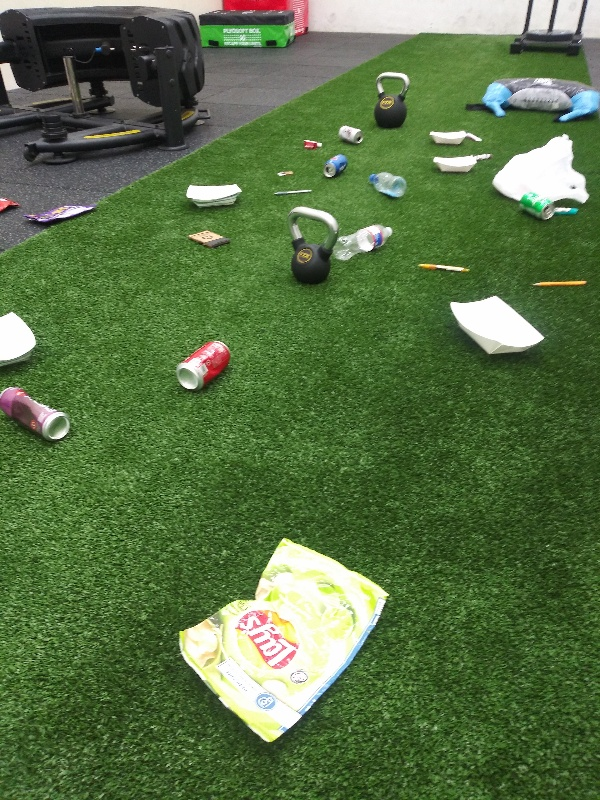bag: (172, 535, 397, 755), (22, 201, 98, 228), (1, 192, 20, 219)
bottle: (329, 222, 396, 268), (365, 166, 410, 198)
can: (1, 381, 73, 448), (172, 337, 237, 393), (517, 191, 554, 224), (334, 121, 367, 144), (321, 152, 348, 180)
plate: (443, 290, 550, 360), (181, 178, 246, 216), (1, 306, 39, 364), (429, 153, 477, 178), (426, 126, 468, 151)
